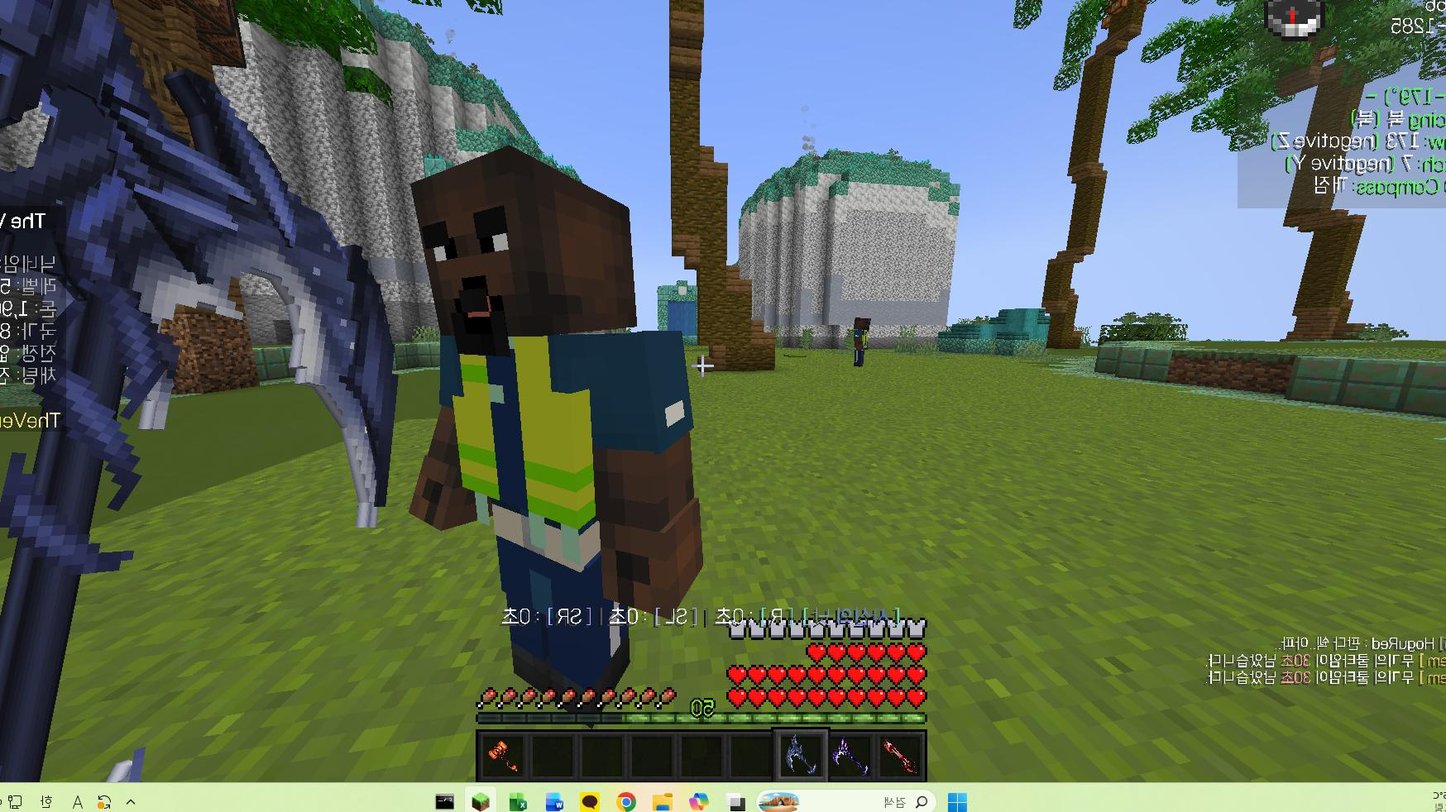Guardian: (410, 147, 701, 695)
